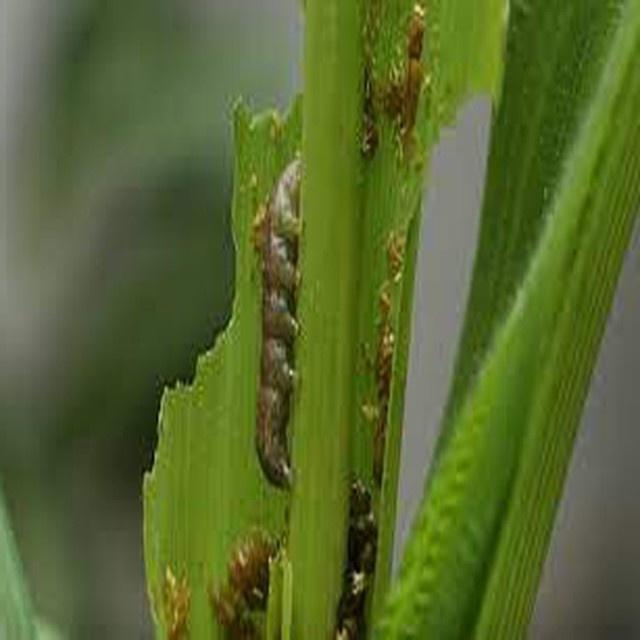gusano_cogollero: (249, 153, 308, 494)
